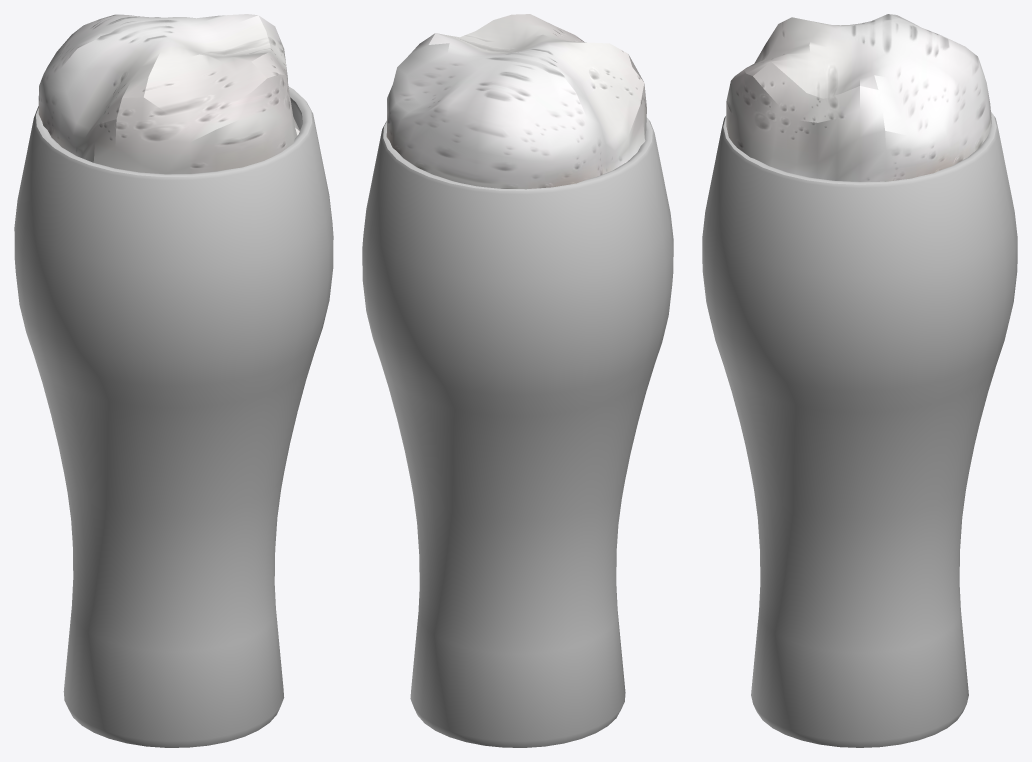
File: Beer.fbx
3 views of the same model, side by side, from view 1: azimuth 30°, elevation 25°; view 2: azimuth 150°, elevation 25°; view 3: azimuth 270°, elevation 25° (orthographic). The views are drawn at different scales.
Visible parts, largest first — view 1: Beer; view 2: Beer; view 3: Beer.
Boxes of the visible parts, left/top/right/bottom form: Beer: left=14, top=14, right=333, bottom=747; Beer: left=362, top=14, right=673, bottom=747; Beer: left=702, top=14, right=1017, bottom=747.
Bounding box in the file's own units: 7.05 × 16.49 × 7.05.
